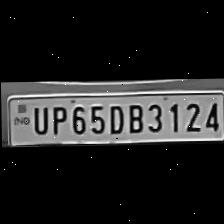1: (162, 98, 180, 132)
2: (180, 98, 200, 131)
3: (142, 98, 164, 132)
4: (199, 98, 219, 130)
5: (85, 100, 105, 134)
6: (66, 100, 86, 132)
B: (122, 100, 144, 133)
D: (104, 100, 124, 134)
P: (46, 102, 66, 134)
U: (28, 103, 48, 134)
